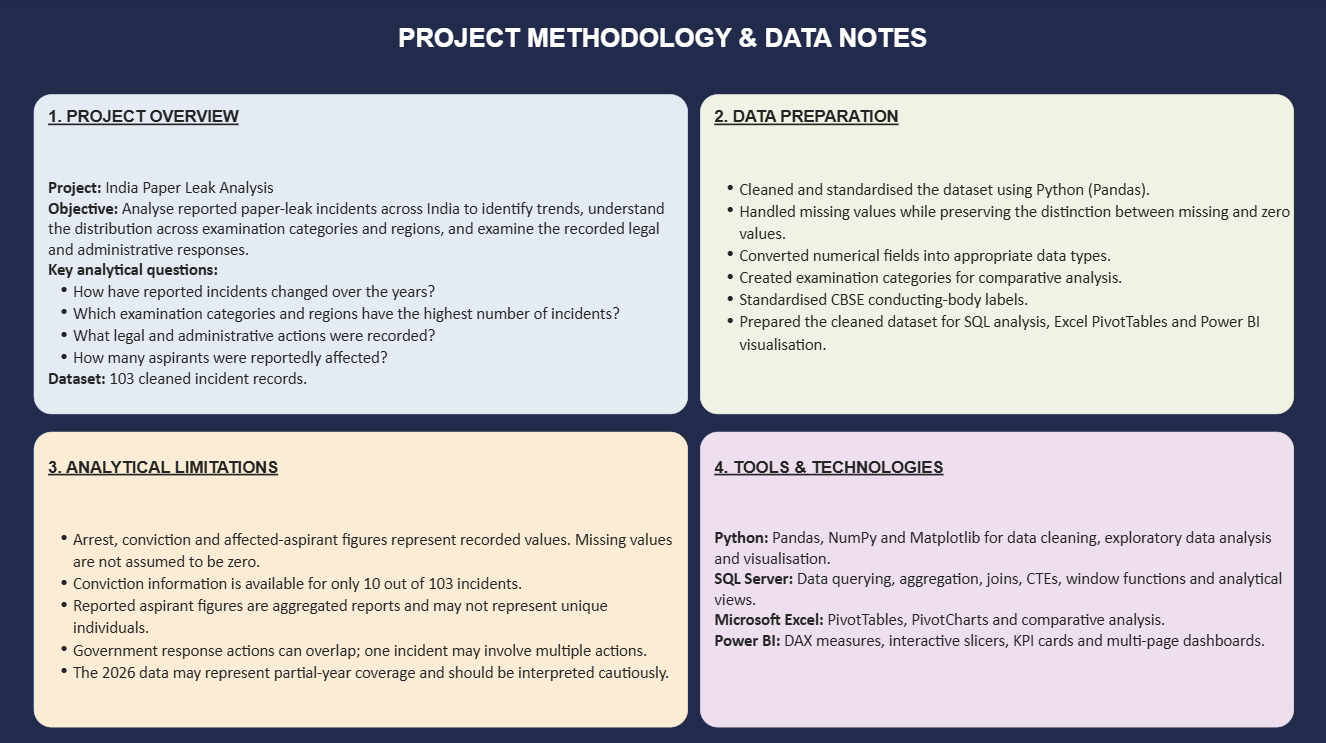

The page's visual inventory and layout, read from the dashboard file:
{"tool":"powerbi","page":{"name":"Methodology & Data Notes","canvas":[1920,1080],"ordinal":2},"visuals":[{"type":"textbox","box":[553.7,37,811,59.7],"z":1},{"type":"textbox","title":"PROJECT OVERVIEW","box":[49.4,140,946.8,463.1],"z":2},{"type":"textbox","box":[1012.7,140,860.4,463.1],"z":3},{"type":"textbox","box":[49.4,627.8,946.8,428.1],"z":4},{"type":"textbox","box":[1012.7,627.8,860.4,428.1],"z":5}]}

Visuals, with their boxes in screenshot pixels (x1, y1, x2, y2), scaled from the page's 1920x1080 canvas onto the 1326x743 screenshot:
textbox: <region>382, 25, 942, 67</region>
"PROJECT OVERVIEW" textbox: <region>34, 96, 688, 415</region>
textbox: <region>699, 96, 1294, 415</region>
textbox: <region>34, 432, 688, 726</region>
textbox: <region>699, 432, 1294, 726</region>
